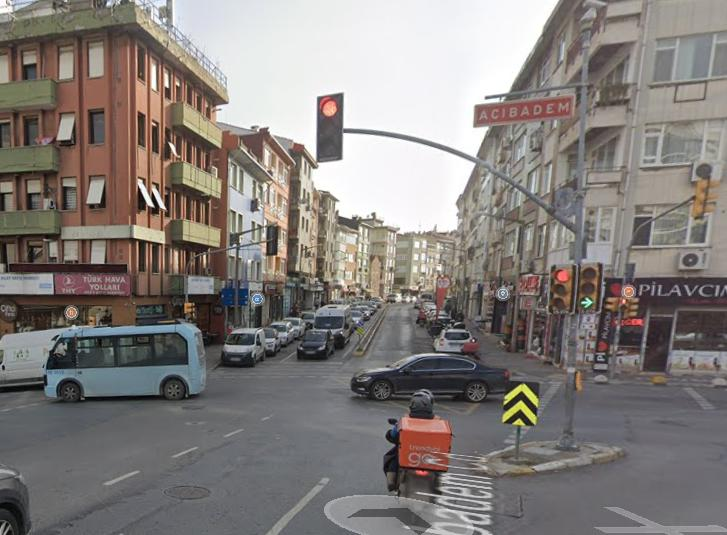greenlight: (579, 255, 599, 316)
redlight: (318, 92, 344, 162), (549, 263, 570, 314)
